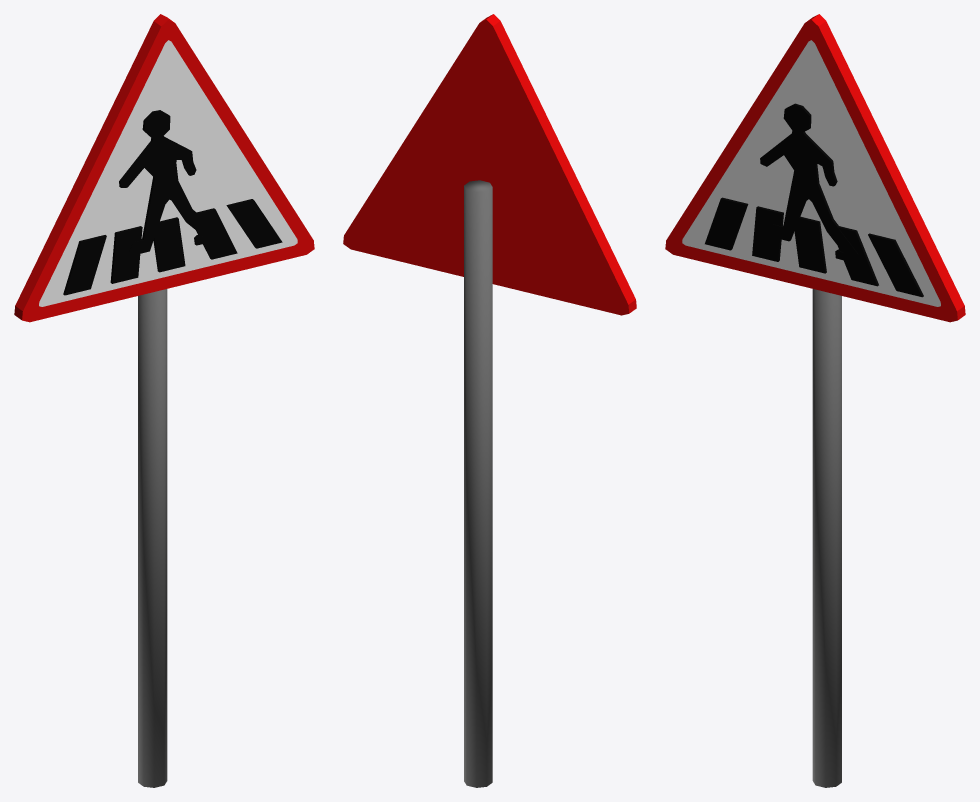
File: Prop_StreetSign_Footpath_02.fbx
The picture shows the model from 3 angles, left to right: view 1: azimuth 30°, elevation 25°; view 2: azimuth 150°, elevation 25°; view 3: azimuth 330°, elevation 25°; orthographic projection. The views are drawn at different scales.
Visible parts, largest first — view 1: Prop_StreetSign_Footpath_02; view 2: Prop_StreetSign_Footpath_02; view 3: Prop_StreetSign_Footpath_02.
Boxes of the visible parts, x1=… form: Prop_StreetSign_Footpath_02: x1=14, y1=14, x2=314, y2=787; Prop_StreetSign_Footpath_02: x1=343, y1=14, x2=636, y2=787; Prop_StreetSign_Footpath_02: x1=665, y1=14, x2=965, y2=787.
Size of the model in its own units: 166 by 420 by 24.11.
